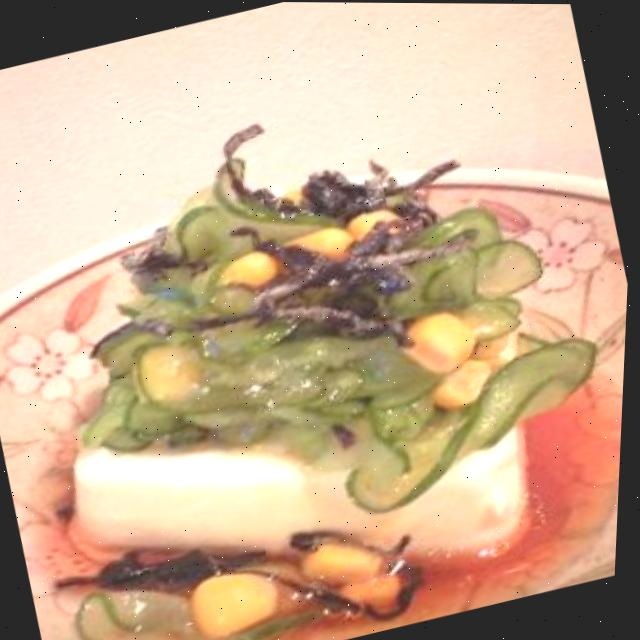豆腐料理: (0, 41, 639, 640)
